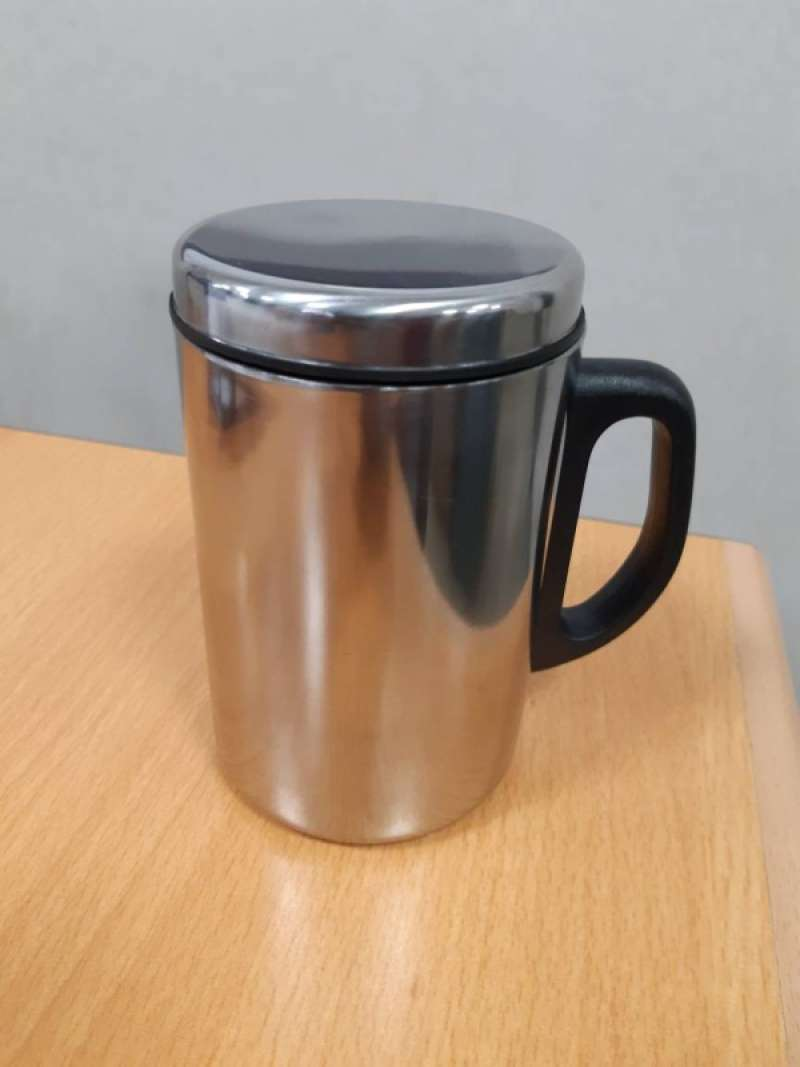gelas: (168, 199, 695, 850)
